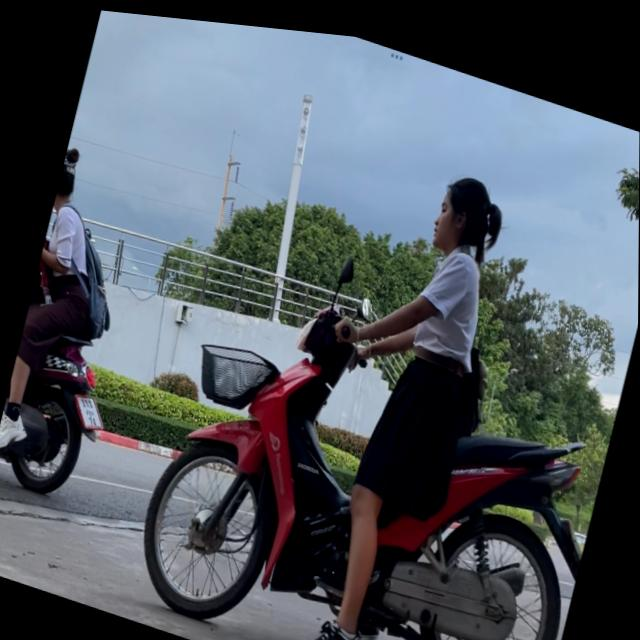seatbelt: (427, 156, 510, 260)
